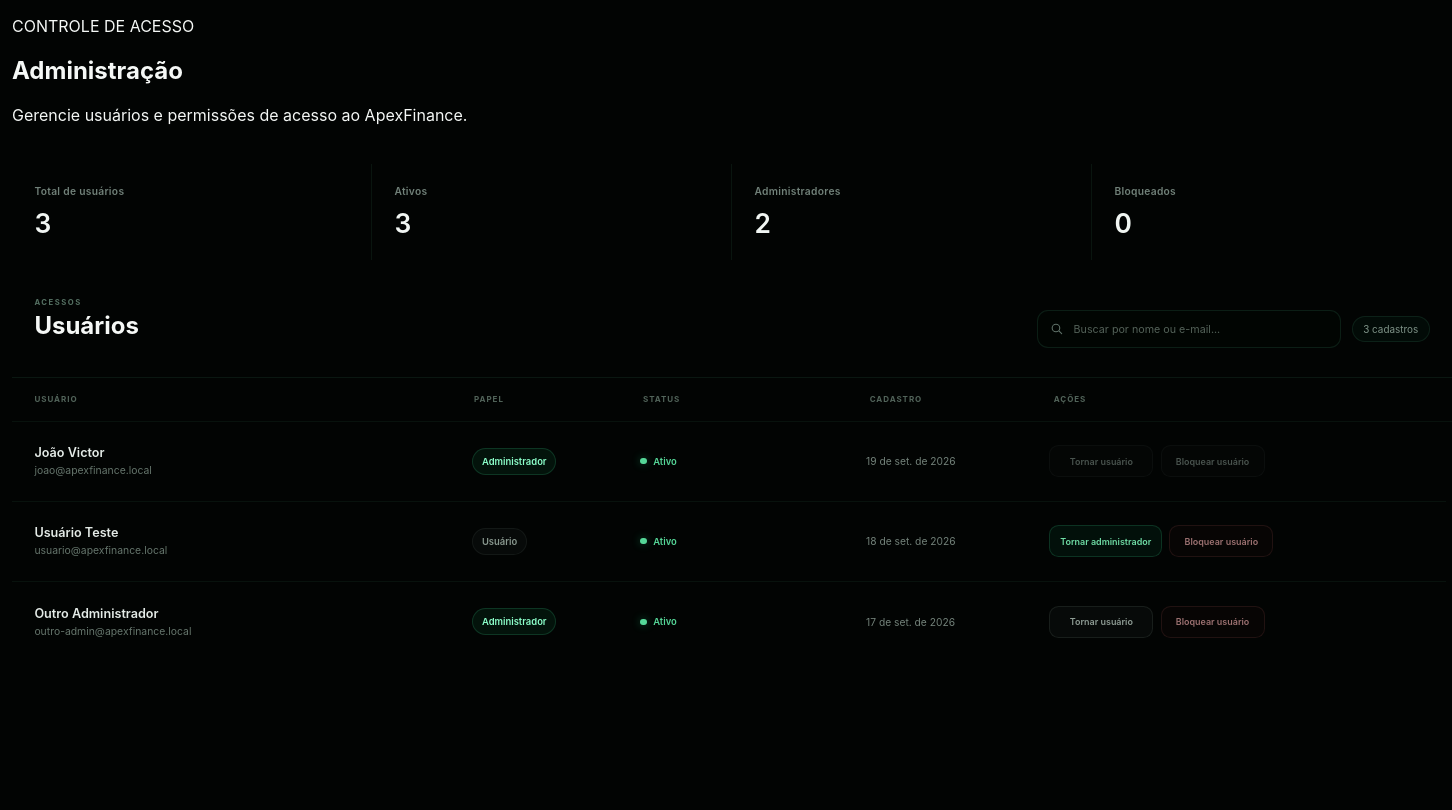
Scenario: Gerenciamento de papéis na Administração › rebaixa outro ADMIN quando a confirmação é aceita
The width and height of the screenshot is (1452, 810).
Check: the list item "Outro Administrador" is shown, box [34,606,159,621]
Click the button "Tornar usuário" in the row of "Outro Administrador" at (1101, 622), box [1049,606,1153,638]
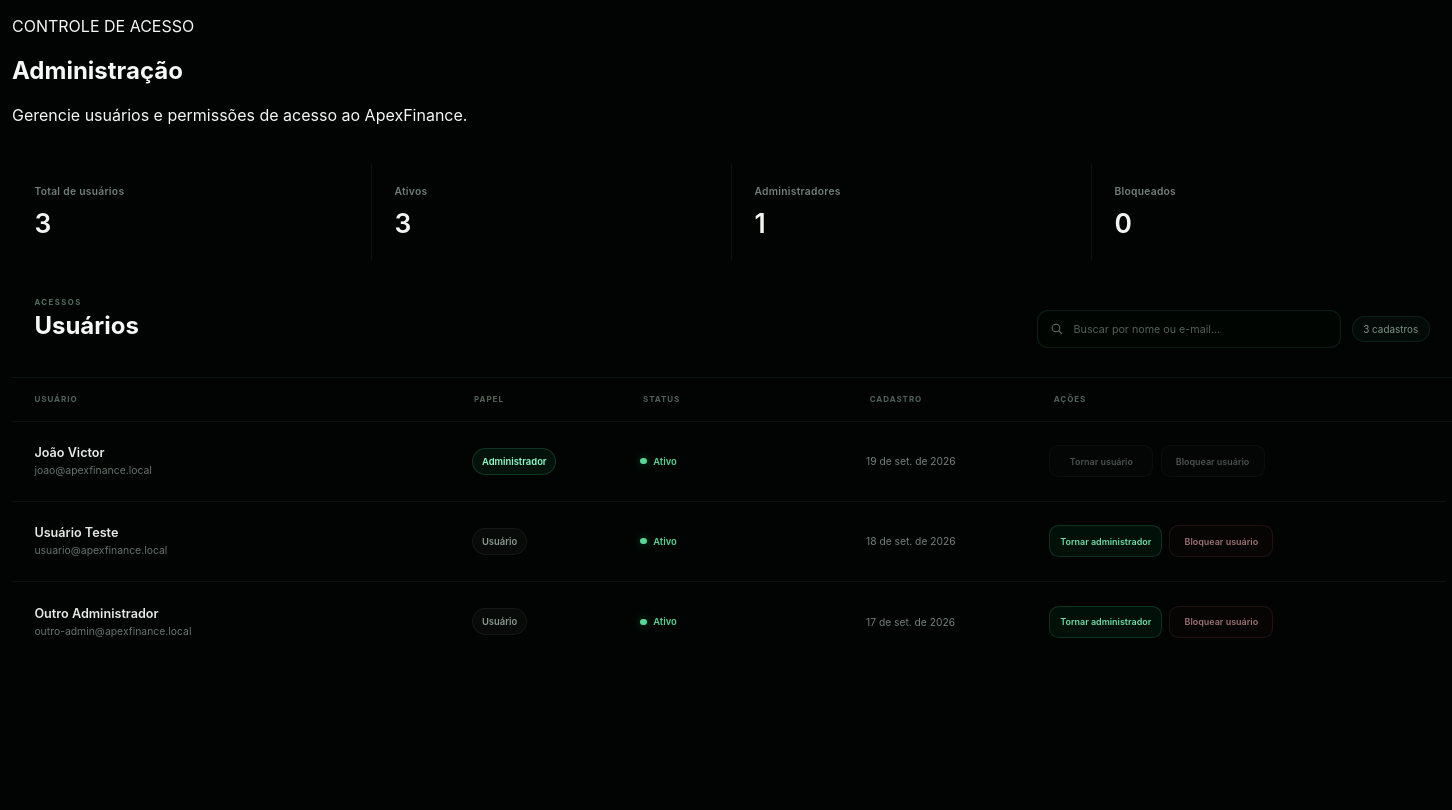
Check: the text "Usuário" in the row of "Outro Administrador" is shown, box [482,616,517,627]
